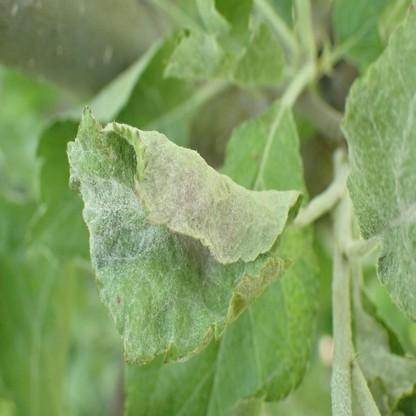powder: (67, 106, 304, 365), (341, 0, 416, 324)
